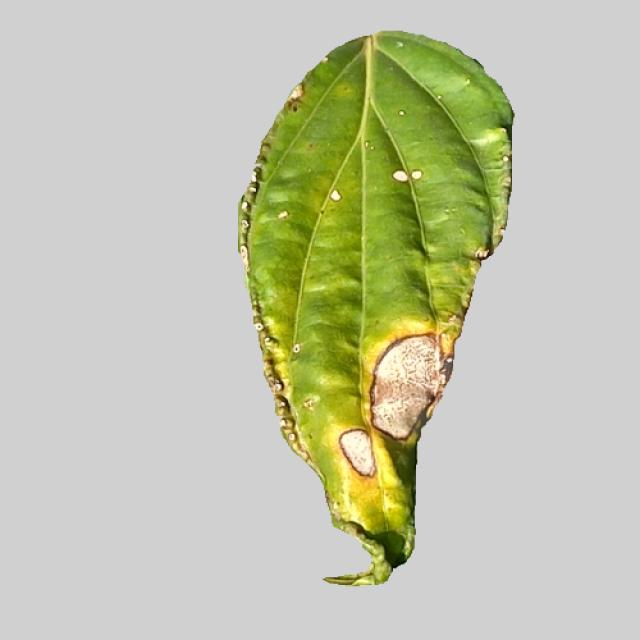leaf-blight: (236, 30, 532, 593)
